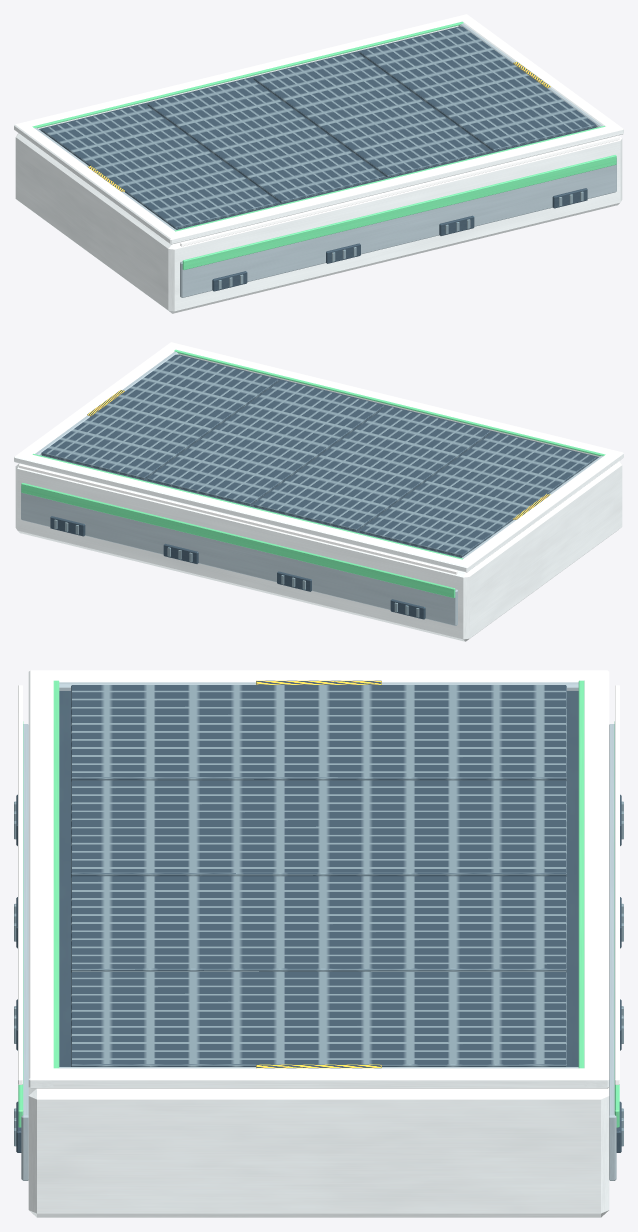
Rendered from ground-grate-4m.glb.
3 renders of one model, top to bottom at view 1: azimuth 30°, elevation 25°; view 2: azimuth 150°, elevation 25°; view 3: azimuth 270°, elevation 25°, orthographic. The views are drawn at different scales.
Visible parts, largest first — view 1: ground-grate-4m; view 2: ground-grate-4m; view 3: ground-grate-4m.
Boxes of the visible parts, box(x1,y1,x2,y2) form: ground-grate-4m: box(14, 14, 623, 313); ground-grate-4m: box(14, 342, 623, 641); ground-grate-4m: box(14, 670, 623, 1217).
Size of the model in its own units: 4 by 0.65 by 2.52.
Materials: 1 (1 with a texture image).
